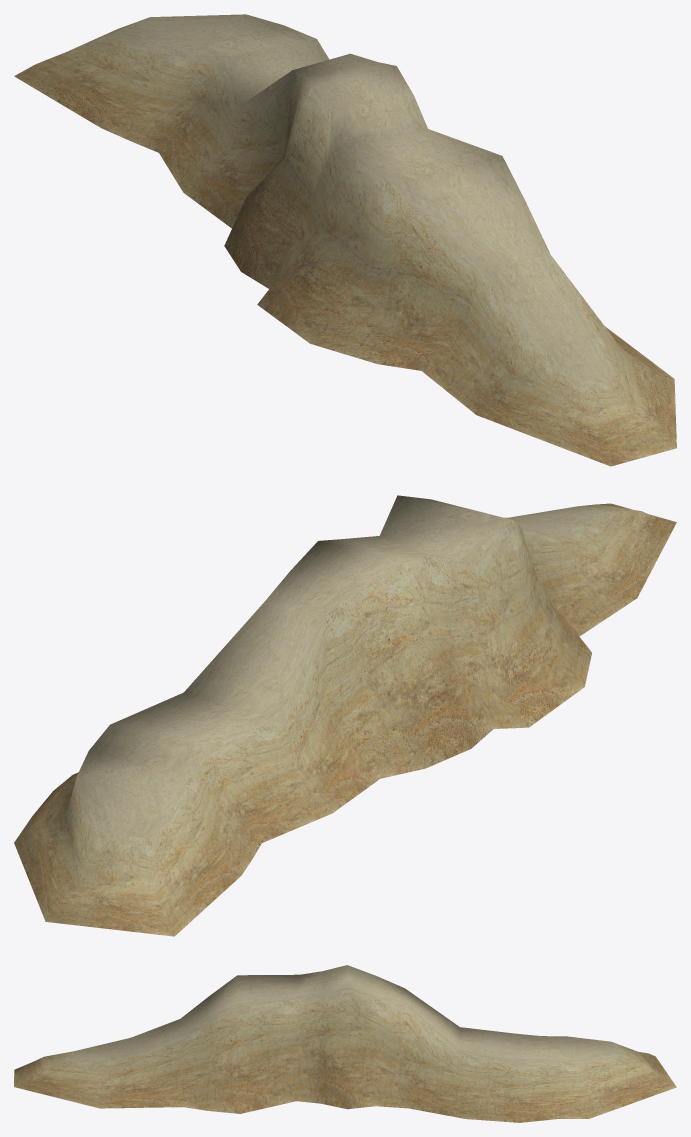
Rendered from rock_beach_spine_a3_l2.fbx.
The picture shows the model from 3 angles, top to bottom: view 1: azimuth 30°, elevation 25°; view 2: azimuth 150°, elevation 25°; view 3: azimuth 270°, elevation 25°; orthographic projection. The views are drawn at different scales.
Parts seen in each view (by area): view 1: mesh_node; view 2: mesh_node; view 3: mesh_node.
Boxes of the visible parts, x1=… form: mesh_node: x1=14, y1=14, x2=676, y2=466; mesh_node: x1=14, y1=495, x2=676, y2=936; mesh_node: x1=14, y1=965, x2=676, y2=1122.
Size of the model in its own units: 7.53 by 4.26 by 25.13.
